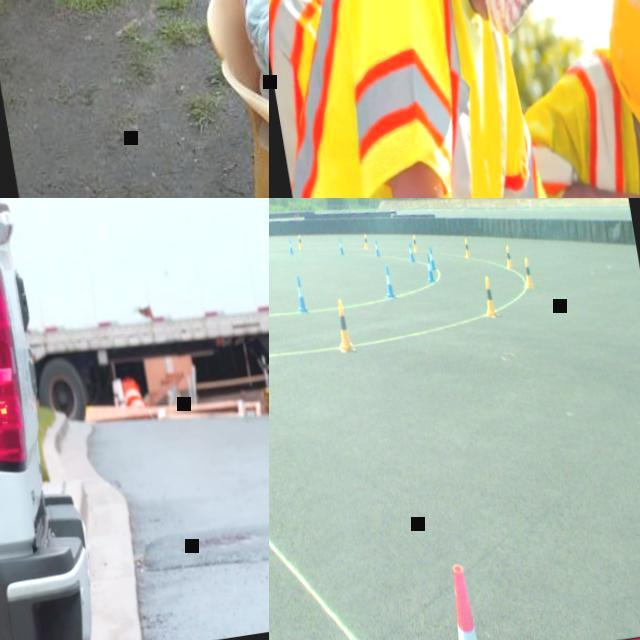helmet: (595, 0, 640, 163)
mask: (466, 0, 545, 41)
person: (269, 0, 636, 198), (503, 0, 640, 198), (269, 0, 388, 198), (210, 0, 269, 198)
safety_cone: (444, 566, 483, 640), (332, 300, 355, 354), (119, 379, 143, 413), (480, 274, 498, 318), (292, 276, 308, 314), (382, 266, 394, 298), (521, 258, 533, 288), (424, 255, 435, 282), (504, 246, 514, 272), (428, 247, 436, 270), (462, 238, 470, 258), (407, 242, 414, 262), (288, 240, 294, 256), (412, 236, 418, 252), (297, 234, 303, 250), (338, 238, 343, 254), (374, 240, 379, 256), (363, 234, 368, 249)
vehicle: (0, 198, 168, 640)
vest: (269, 0, 559, 198), (518, 20, 640, 198), (269, 0, 366, 198)
